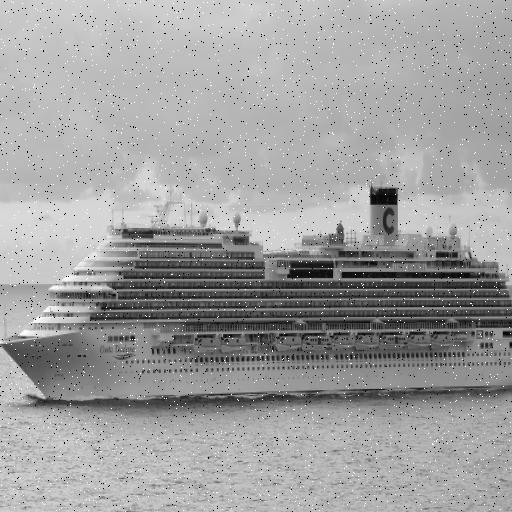cruises: (1, 184, 512, 417)
